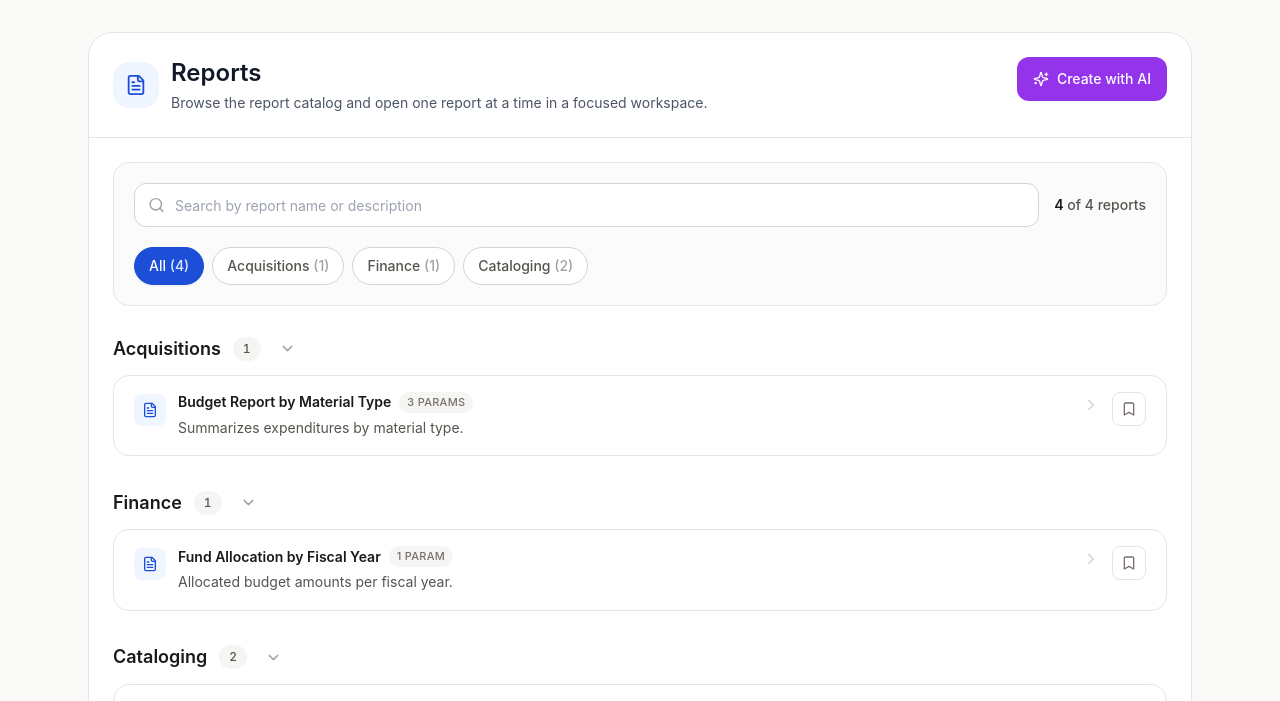
Test: Reports › keeps the catalog usable when browser storage reads and writes throw
Expected: the heading "Reports" is shown, [171,58,262,87]
Type "budget" into the search field named "Search reports" at (586, 205), box [134,183,1039,227]
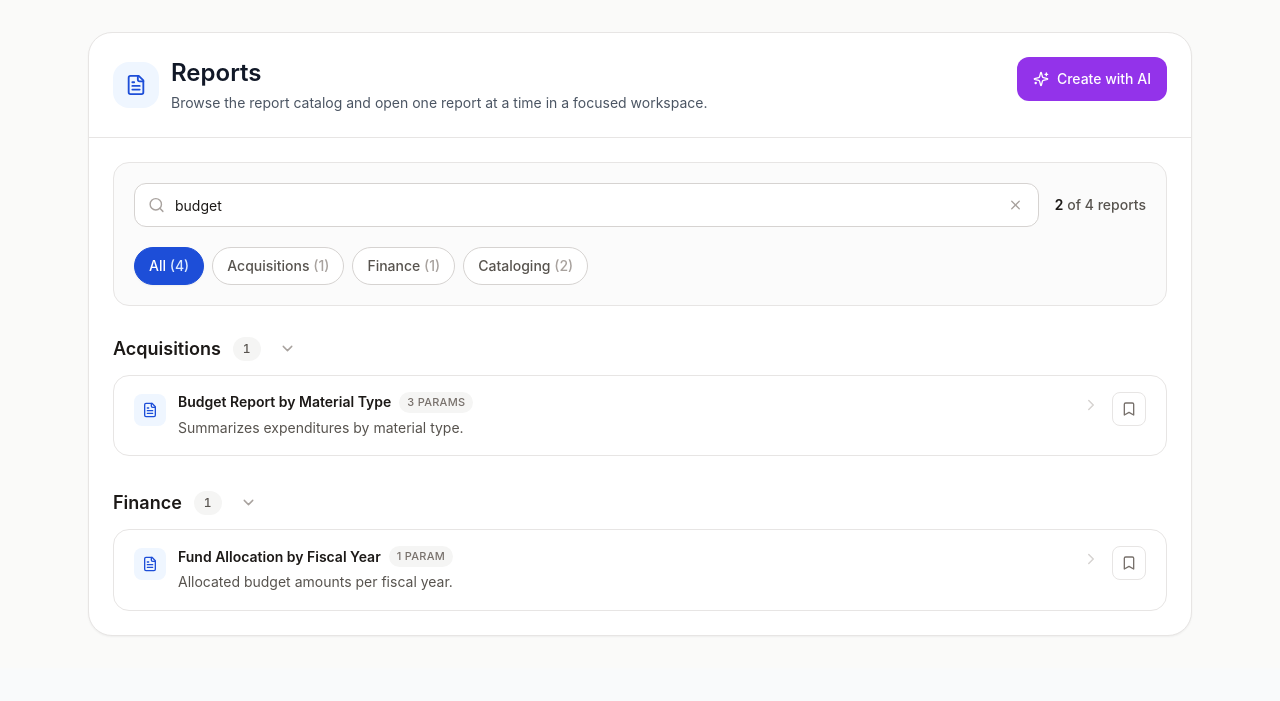
Expected: the text "Budget Report by Material Type" is shown, [178,392,391,412]
Click the button named "Pin Budget Report by Material Type" at (1129, 409), box [1112,392,1146,426]
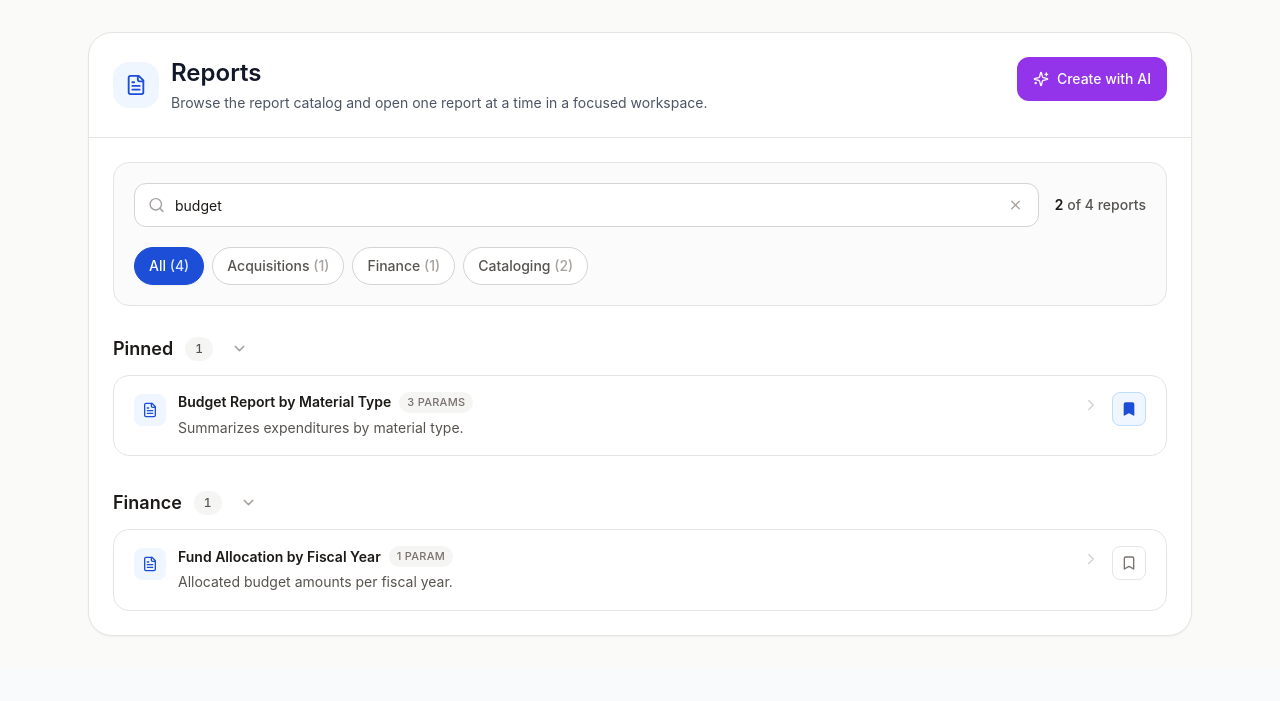
Expected: the heading "Pinned" is shown, [113,334,173,362]
